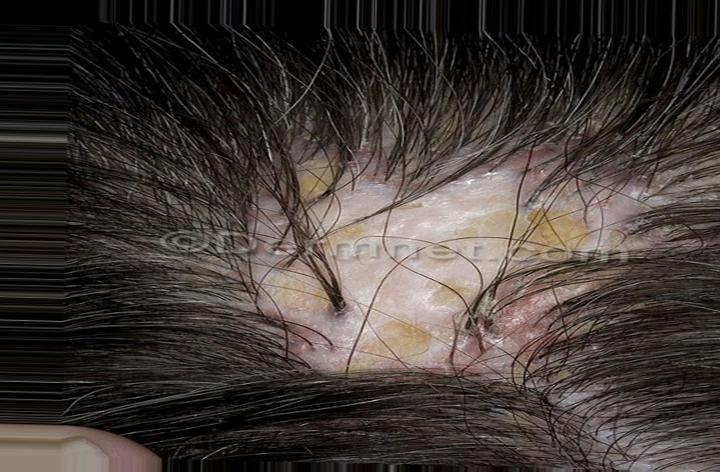Folliculitis: (235, 163, 594, 376)
